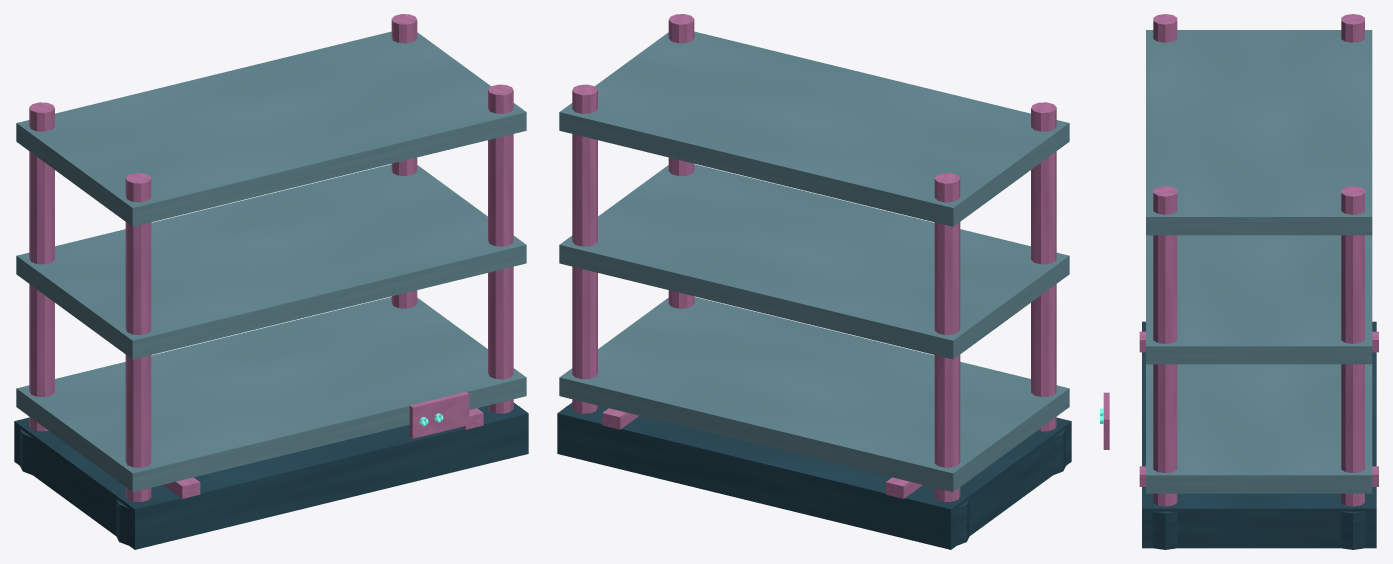
File: atlas100-s065-a06.glb
3 views of the same model, side by side, from view 1: azimuth 30°, elevation 25°; view 2: azimuth 150°, elevation 25°; view 3: azimuth 270°, elevation 25° (orthographic). The views are drawn at different scales.
Visible parts, largest first — view 1: atlas100-s065-a06:part-013, atlas100-s065-a06:part-012, atlas100-s065-a06:part-011, atlas100-s065-a06:part-000, atlas100-s065-a06:part-005, atlas100-s065-a06:part-009, atlas100-s065-a06:part-003, atlas100-s065-a06:part-014, atlas100-s065-a06:part-007; view 2: atlas100-s065-a06:part-013, atlas100-s065-a06:part-012, atlas100-s065-a06:part-011, atlas100-s065-a06:part-000, atlas100-s065-a06:part-003, atlas100-s065-a06:part-007, atlas100-s065-a06:part-005, atlas100-s065-a06:part-009; view 3: atlas100-s065-a06:part-013, atlas100-s065-a06:part-012, atlas100-s065-a06:part-011, atlas100-s065-a06:part-000, atlas100-s065-a06:part-009, atlas100-s065-a06:part-007, atlas100-s065-a06:part-008, atlas100-s065-a06:part-010, atlas100-s065-a06:part-005, atlas100-s065-a06:part-003, atlas100-s065-a06:part-014.
Part boxes in pixels (bbox=[...]): atlas100-s065-a06:part-013: bbox=[16, 31, 526, 226]; atlas100-s065-a06:part-012: bbox=[16, 164, 526, 359]; atlas100-s065-a06:part-011: bbox=[16, 297, 526, 491]; atlas100-s065-a06:part-000: bbox=[14, 402, 528, 549]; atlas100-s065-a06:part-005: bbox=[125, 173, 151, 501]; atlas100-s065-a06:part-009: bbox=[488, 84, 513, 413]; atlas100-s065-a06:part-003: bbox=[29, 102, 54, 431]; atlas100-s065-a06:part-014: bbox=[409, 392, 469, 438]; atlas100-s065-a06:part-007: bbox=[391, 14, 417, 308]; atlas100-s065-a06:part-013: bbox=[559, 31, 1069, 226]; atlas100-s065-a06:part-012: bbox=[559, 164, 1069, 359]; atlas100-s065-a06:part-011: bbox=[559, 297, 1069, 491]; atlas100-s065-a06:part-000: bbox=[557, 402, 1071, 549]; atlas100-s065-a06:part-003: bbox=[934, 173, 960, 501]; atlas100-s065-a06:part-007: bbox=[572, 84, 597, 413]; atlas100-s065-a06:part-005: bbox=[1031, 102, 1056, 431]; atlas100-s065-a06:part-009: bbox=[668, 14, 694, 308]; atlas100-s065-a06:part-013: bbox=[1146, 30, 1372, 235]; atlas100-s065-a06:part-012: bbox=[1146, 235, 1372, 364]; atlas100-s065-a06:part-011: bbox=[1146, 364, 1372, 493]; atlas100-s065-a06:part-000: bbox=[1142, 321, 1376, 548]; atlas100-s065-a06:part-009: bbox=[1153, 186, 1177, 506]; atlas100-s065-a06:part-007: bbox=[1341, 186, 1364, 506]; atlas100-s065-a06:part-008: bbox=[1340, 511, 1365, 549]; atlas100-s065-a06:part-010: bbox=[1152, 511, 1177, 549]; atlas100-s065-a06:part-005: bbox=[1153, 14, 1177, 42]; atlas100-s065-a06:part-003: bbox=[1341, 14, 1364, 42]; atlas100-s065-a06:part-014: bbox=[1103, 392, 1109, 449].
Size of the model in its own units: 2.69 by 2.3 by 1.66.
Materials: 4 (4 with a texture image).
